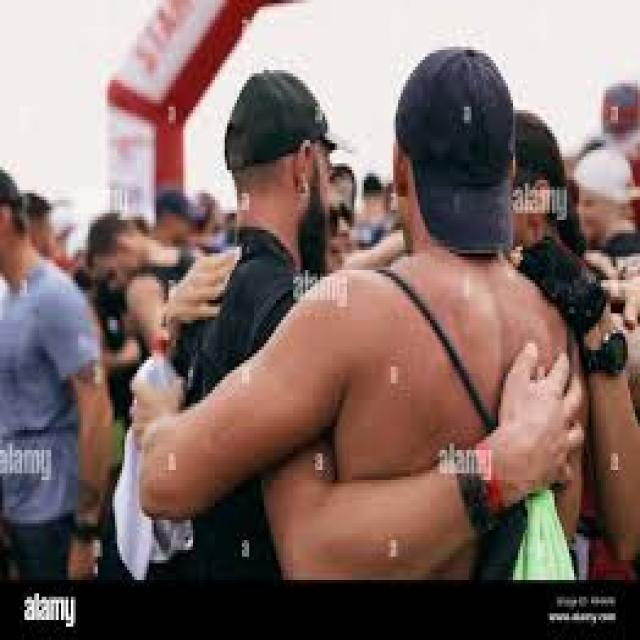cap: (396, 37, 532, 270), (218, 53, 378, 180), (566, 136, 640, 213), (593, 69, 640, 143)
